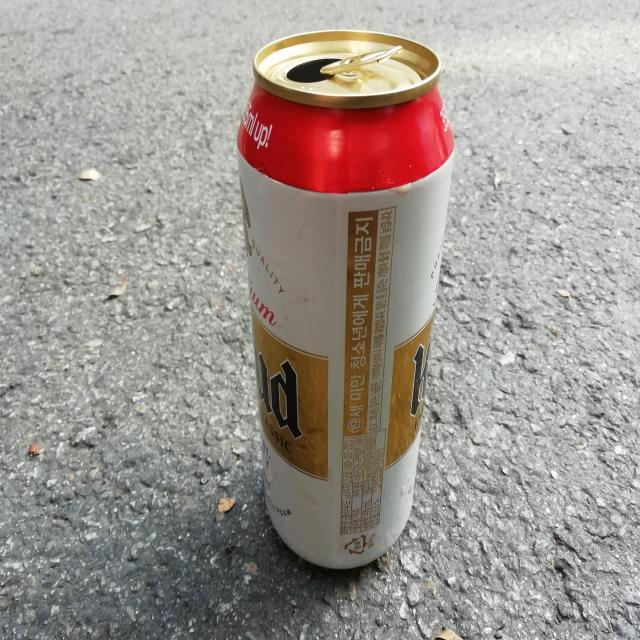can: (237, 29, 454, 569)
